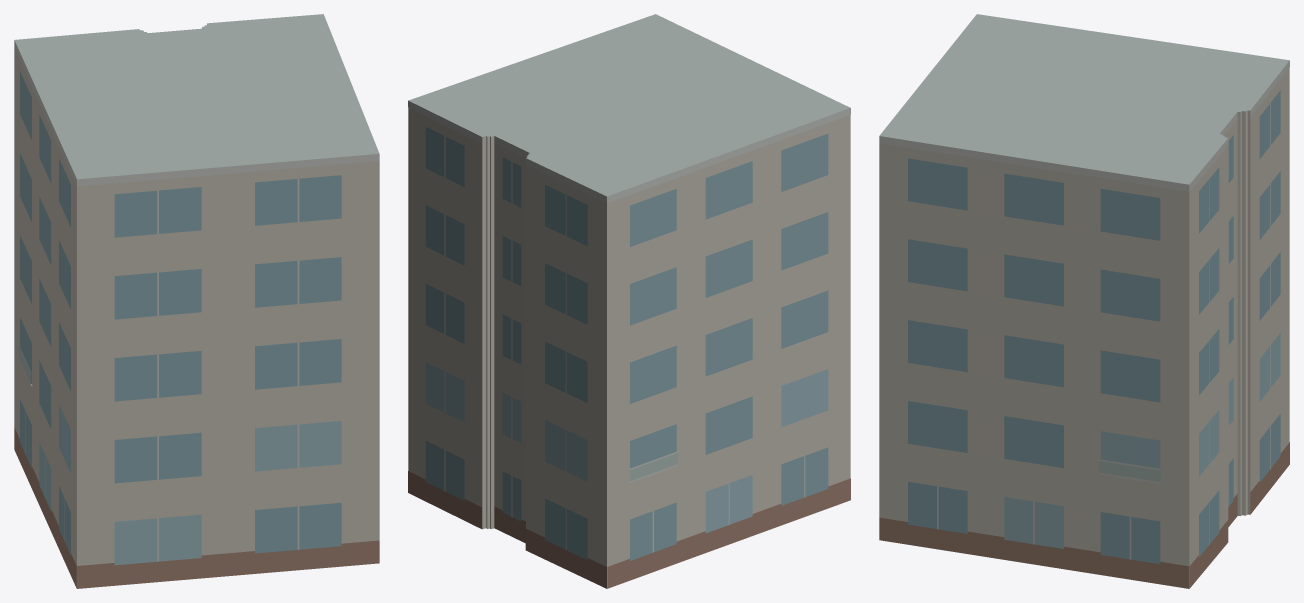
File: survey-upis-32772615.glb
3 views of the same model, side by side, from view 1: azimuth 30°, elevation 25°; view 2: azimuth 150°, elevation 25°; view 3: azimuth 270°, elevation 25° (orthographic). The views are drawn at different scales.
Parts seen in each view (by area): view 1: survey-upis-32772615.tmp; view 2: survey-upis-32772615.tmp; view 3: survey-upis-32772615.tmp.
Boxes of the visible parts, x1=… form: survey-upis-32772615.tmp: x1=14, y1=14, x2=379, y2=588; survey-upis-32772615.tmp: x1=408, y1=14, x2=850, y2=588; survey-upis-32772615.tmp: x1=879, y1=14, x2=1289, y2=588.
Bounding box in the file's own units: 12.6 × 13.9 × 12.81.
